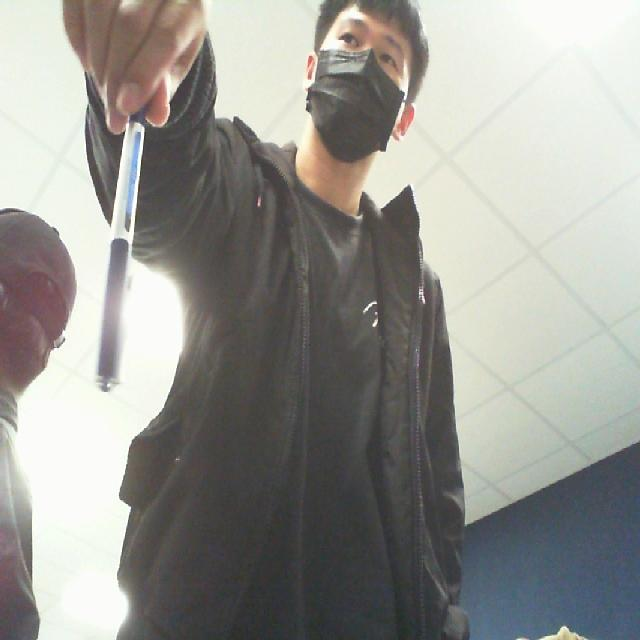Pen: (91, 95, 150, 425)
